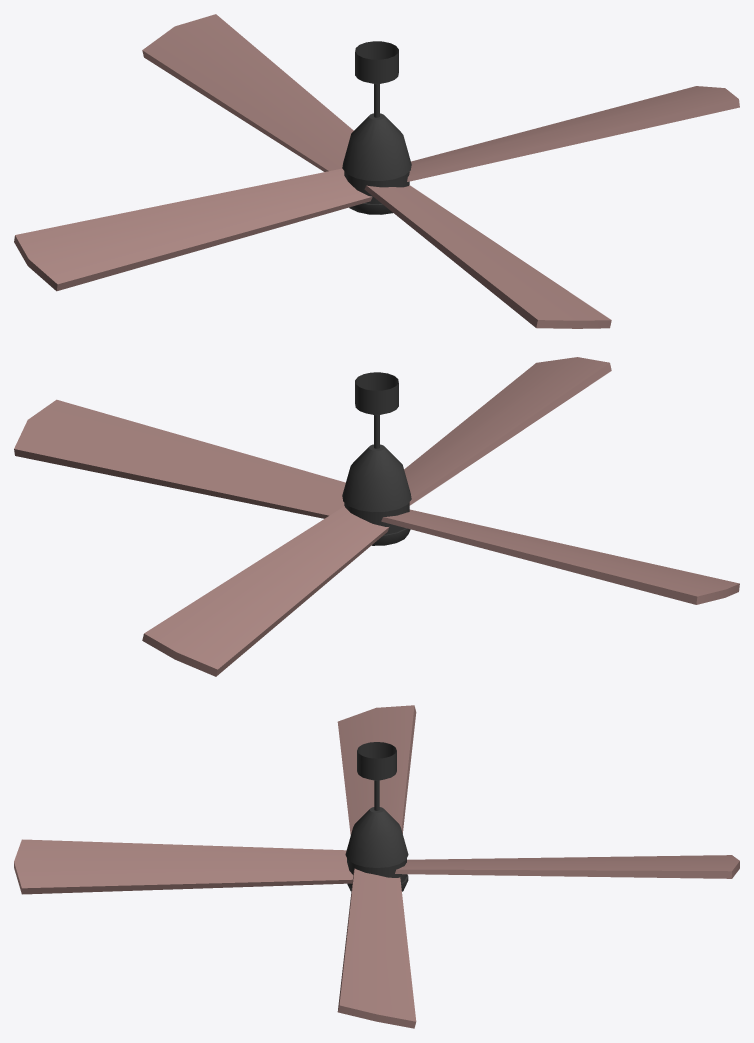
The model's file is CeillingFan.fbx.
3 renders of one model, top to bottom at view 1: azimuth 30°, elevation 25°; view 2: azimuth 150°, elevation 25°; view 3: azimuth 270°, elevation 25°, orthographic. The views are drawn at different scales.
Visible parts, largest first — view 1: Fan, Ceiling fan; view 2: Fan, Ceiling fan; view 3: Fan, Ceiling fan.
Part boxes in pixels (box(x1,y1,x2,y2)): Fan: box(14, 14, 739, 328); Ceiling fan: box(342, 41, 411, 214); Fan: box(14, 357, 739, 676); Ceiling fan: box(342, 372, 411, 545); Fan: box(14, 705, 739, 1028); Ceiling fan: box(345, 742, 408, 891).
Size of the model in its own units: 1.1 by 0.2319 by 1.1.
